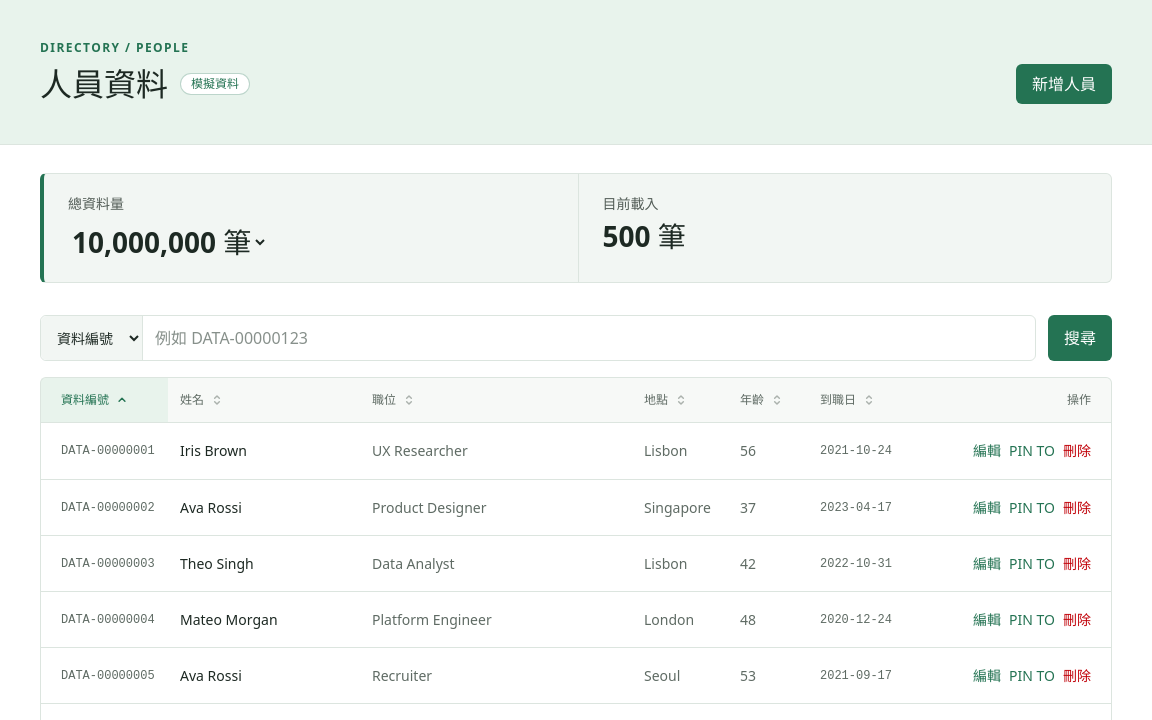
HomeView action feedback › announces the result and returns focus to the affected row after edit and delete
Click the button "編輯" in the row of "DATA-00000002" at (987, 508), box left=973, top=498, right=1001, bottom=518
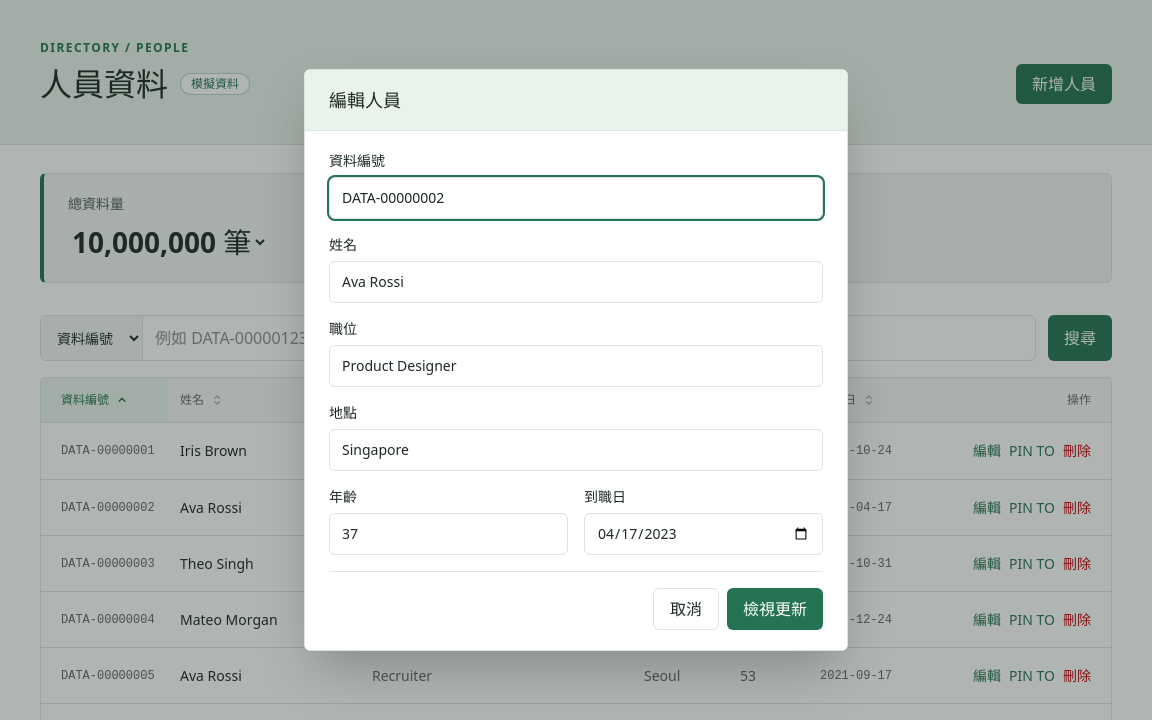
Submit the form, box left=305, top=131, right=847, bottom=650
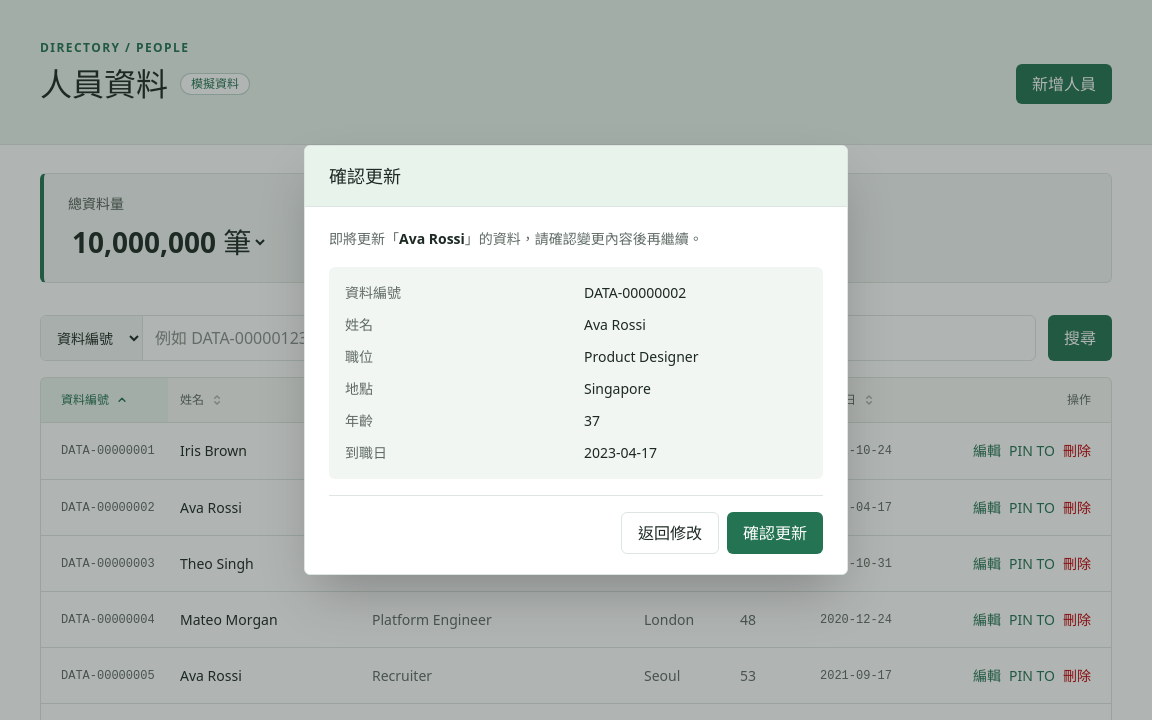
Click the button "確認更新" at (775, 533), box left=727, top=512, right=823, bottom=554
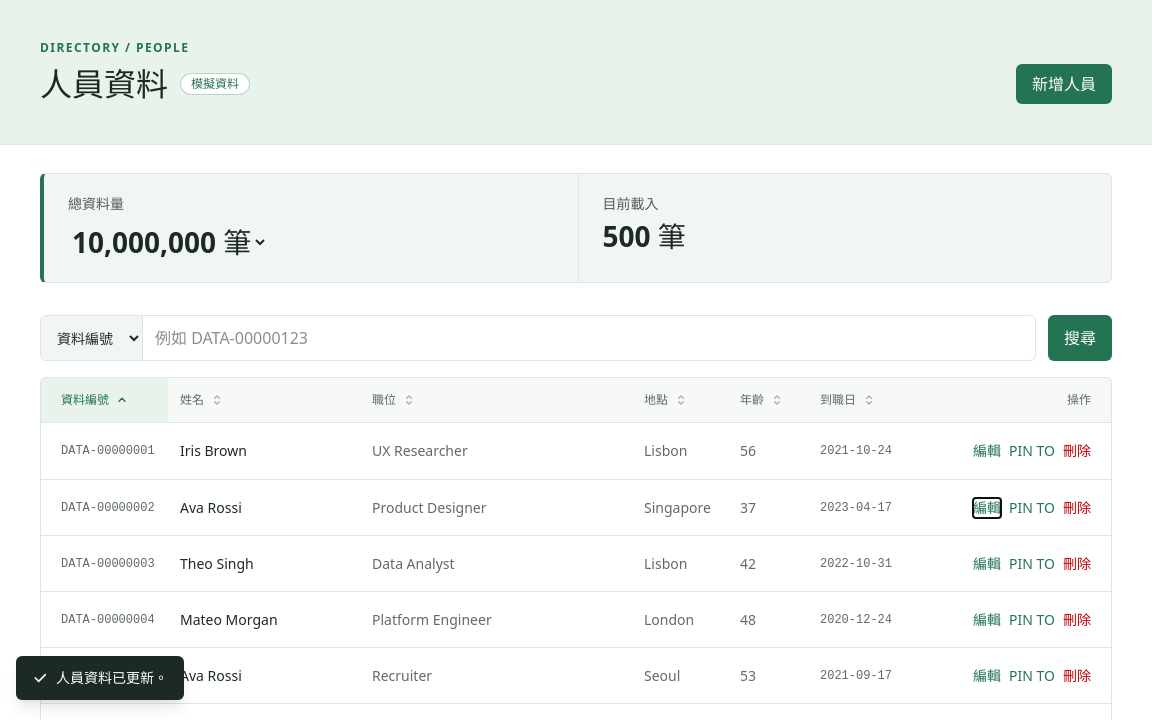
Result: the message with id "action-status" reads "人員資料已更新。" at left=56, top=668, right=168, bottom=687
// 刪除後原本那筆不存在，焦點落在遞補到同一列號的資料上。
Click the button "刪除" in the row of "DATA-00000002" at (1077, 508), box left=1063, top=498, right=1091, bottom=518
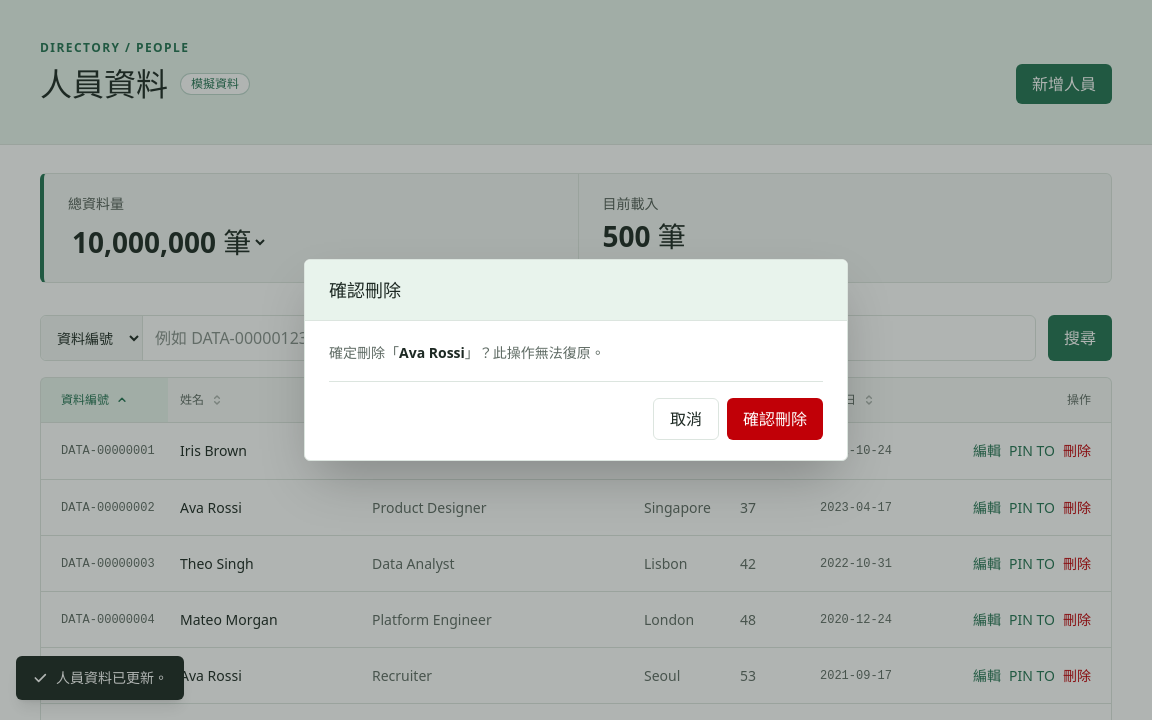
Click the button "確認刪除" at (775, 419), box left=727, top=398, right=823, bottom=440
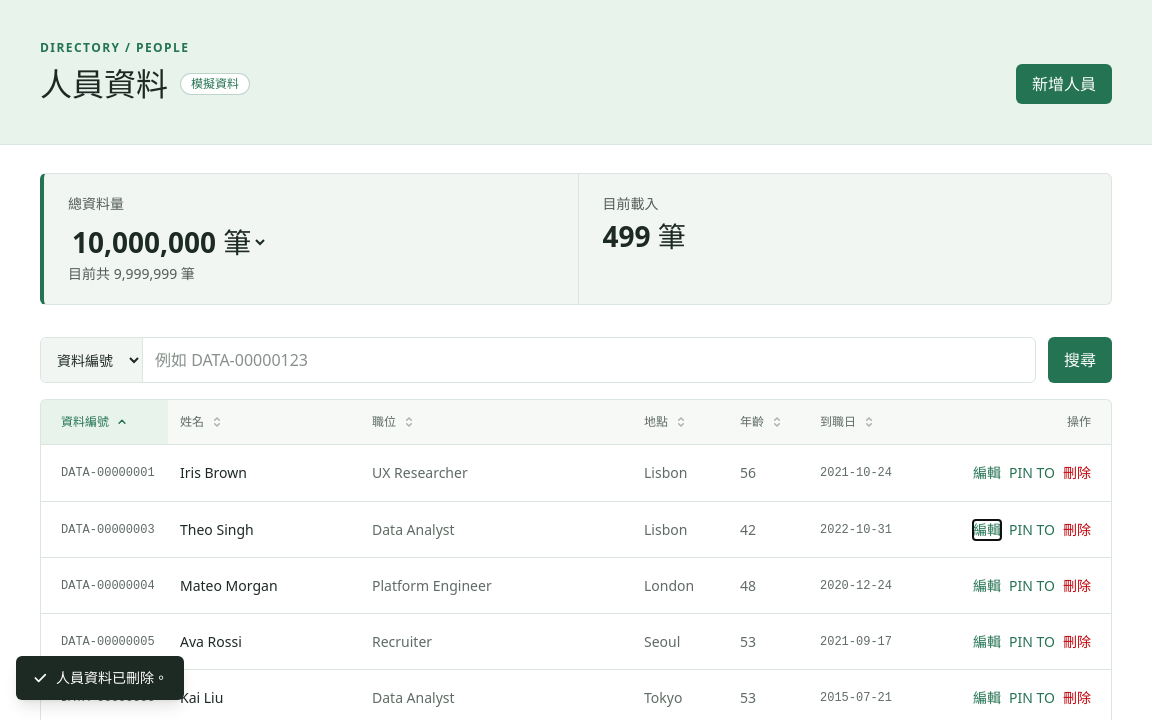
Result: the message with id "action-status" reads "人員資料已刪除。" at left=56, top=668, right=168, bottom=687
